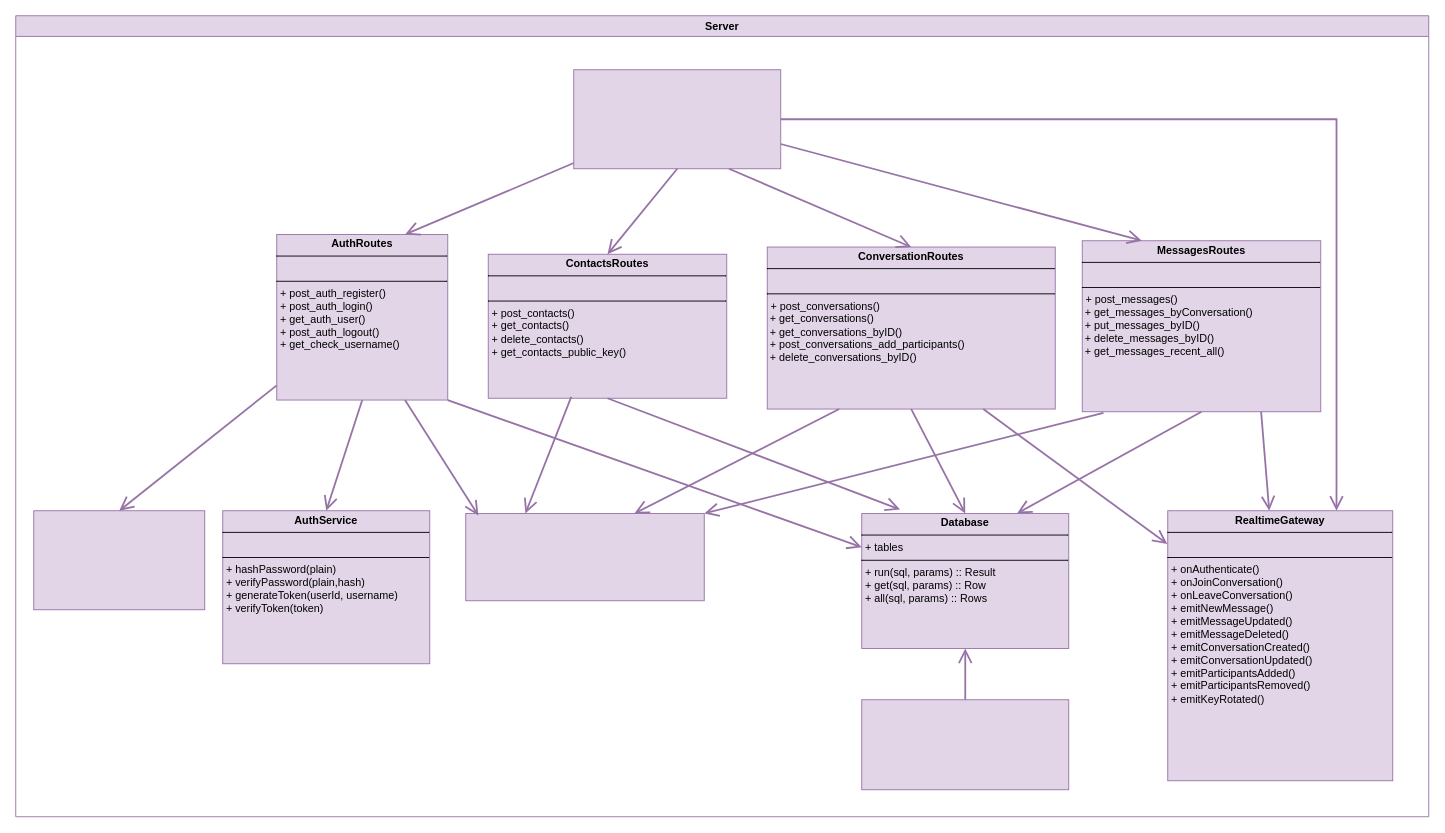
Some shapes in this 1445 by 833 pixel diagram are drawn without their labels. Each missing label, with the centre of its shape:
"AuthMiddleware + authenticateToken(req, res, next)" belongs at point 584,557.
"DBVerifyService + ensureDatabaseIntegrity()" belongs at point 965,744.
"EnvConfig + getEnv(key,defaultValue)" belongs at point 677,119.
"RateLimiter + apiLimiter + loginLimiter" belongs at point 119,560.
